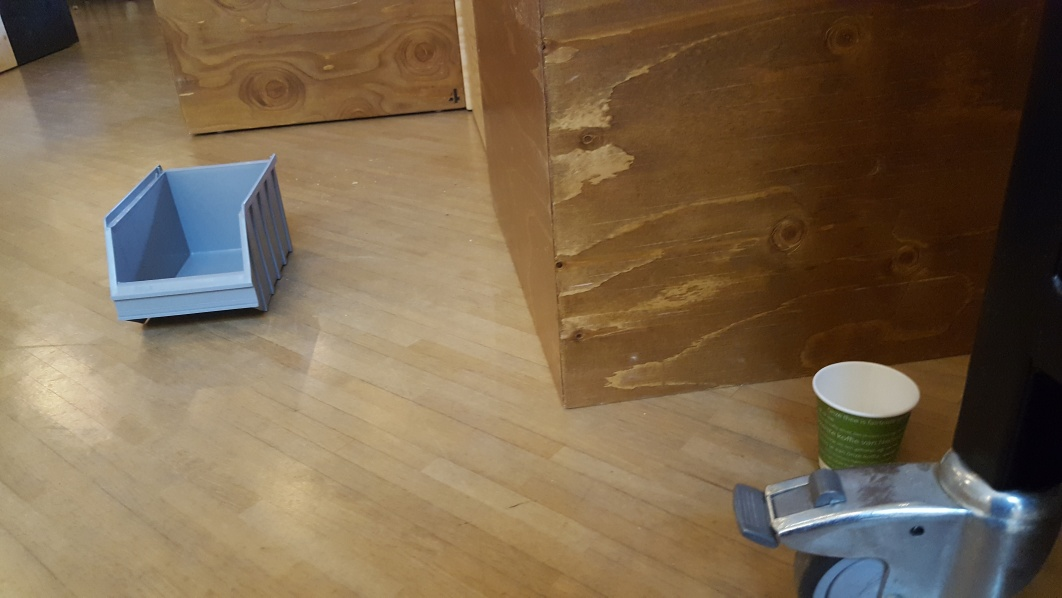cup: (812, 359, 921, 469)
tray: (103, 154, 294, 323)
